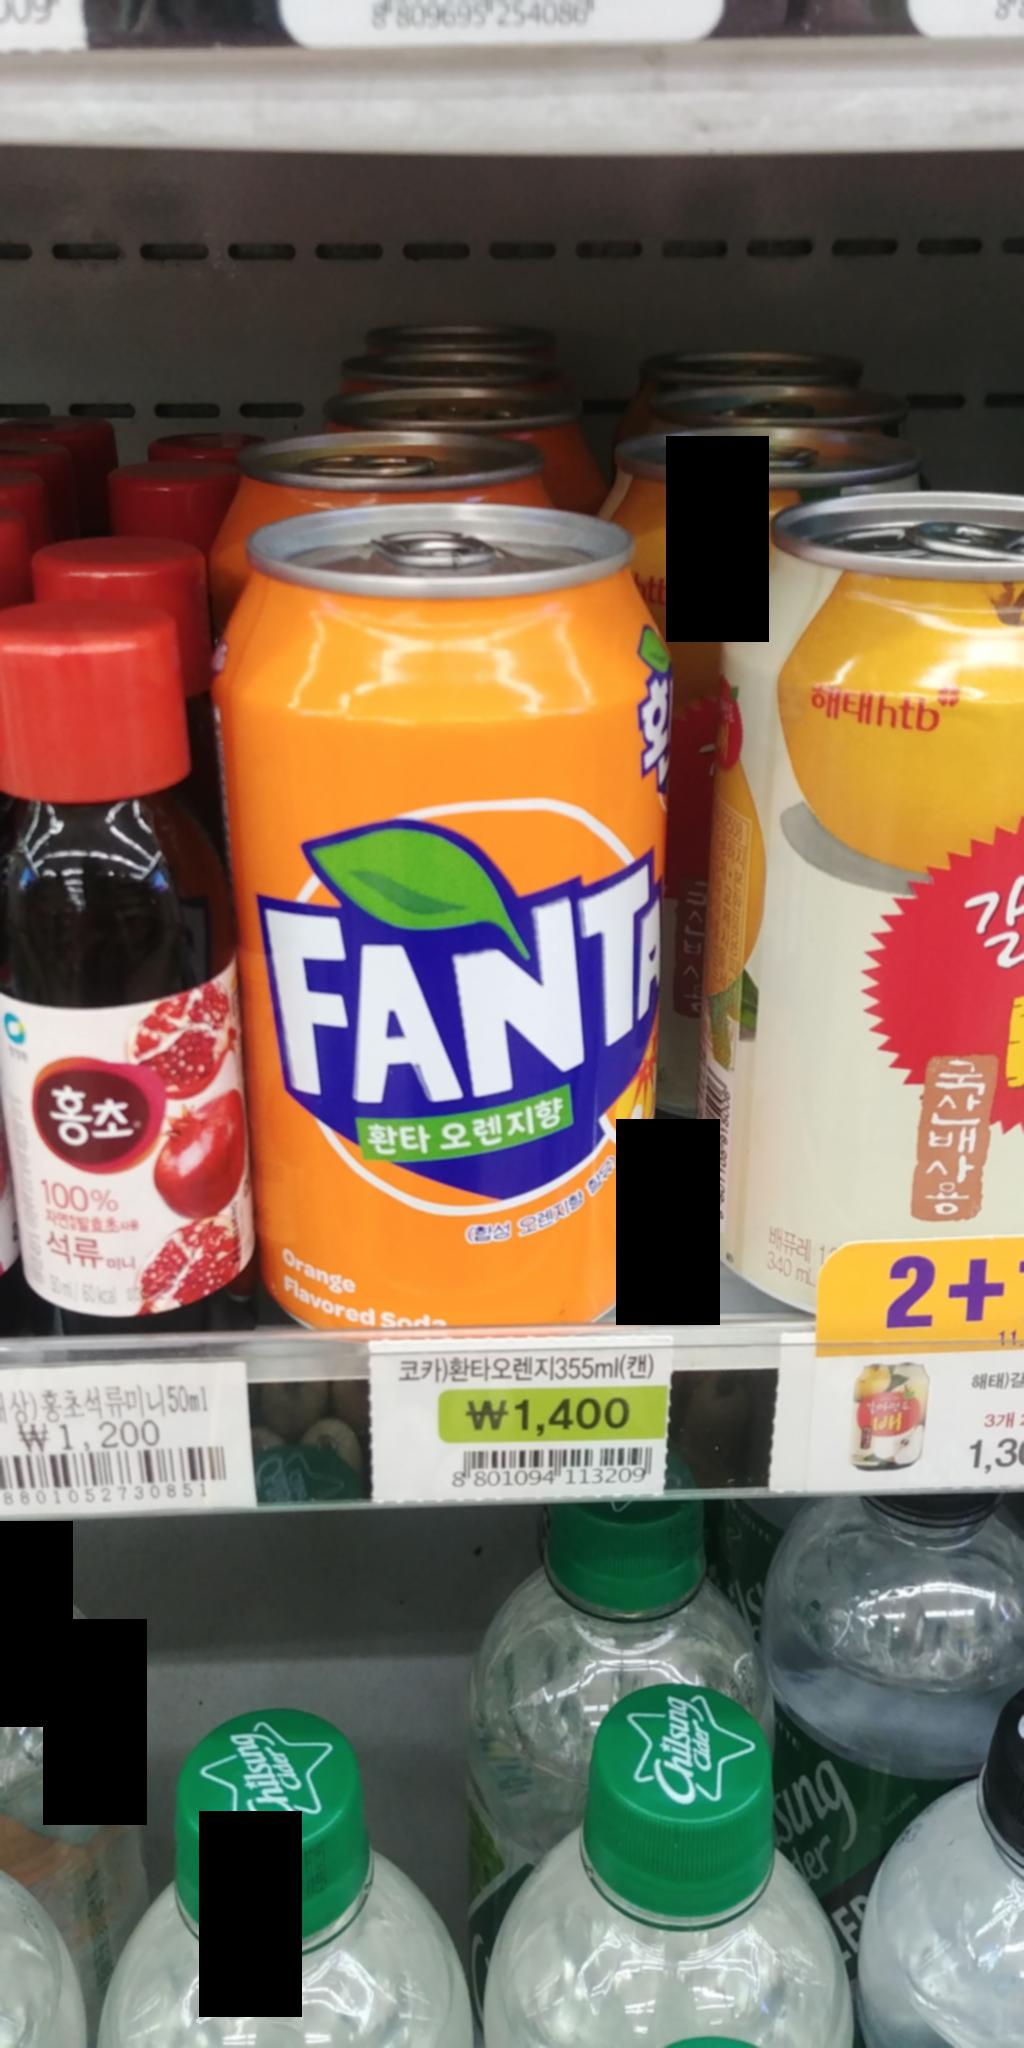fanta_orange: (201, 490, 682, 1351)
